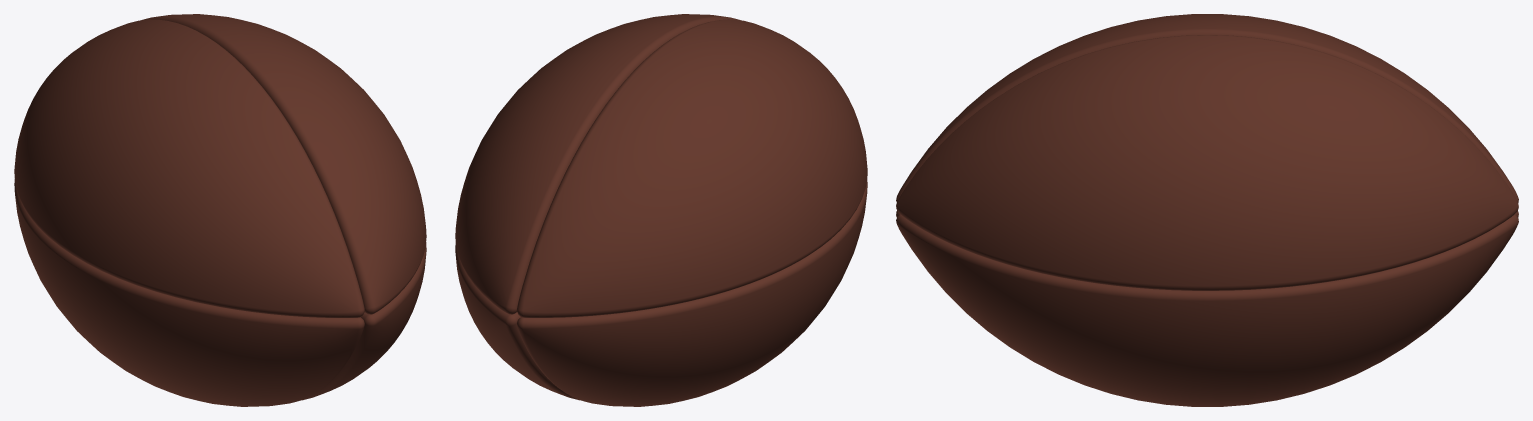
File: Football.glb
The picture shows the model from 3 angles, left to right: view 1: azimuth 30°, elevation 25°; view 2: azimuth 150°, elevation 25°; view 3: azimuth 270°, elevation 25°; orthographic projection. The views are drawn at different scales.
Parts seen in each view (by area): view 1: Football; view 2: Football; view 3: Football.
Boxes of the visible parts, box(x1,y1,x2,y2) form: Football: box(14, 14, 426, 406); Football: box(455, 14, 867, 406); Football: box(896, 14, 1518, 406).
Bounding box in the file's own units: 4.94 × 4.94 × 7.82.
